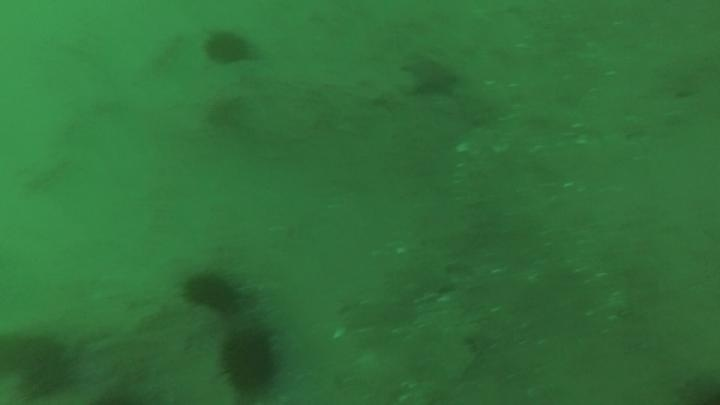echinus: (215, 323, 285, 400), (6, 331, 78, 402), (180, 268, 244, 316), (202, 27, 256, 68)
starfish: (400, 52, 462, 100)
